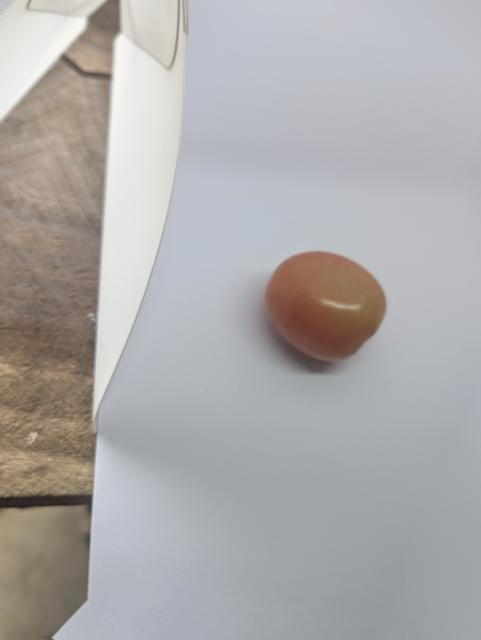turning: (256, 241, 394, 370)
